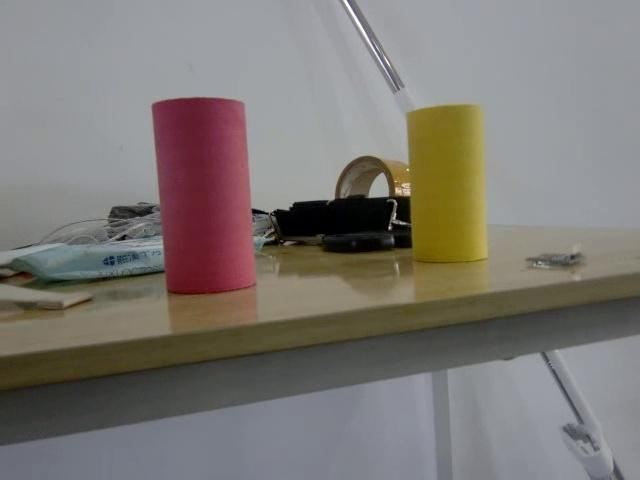red_cylinder: (150, 97, 265, 295)
yellow_cylinder: (401, 101, 492, 265)
